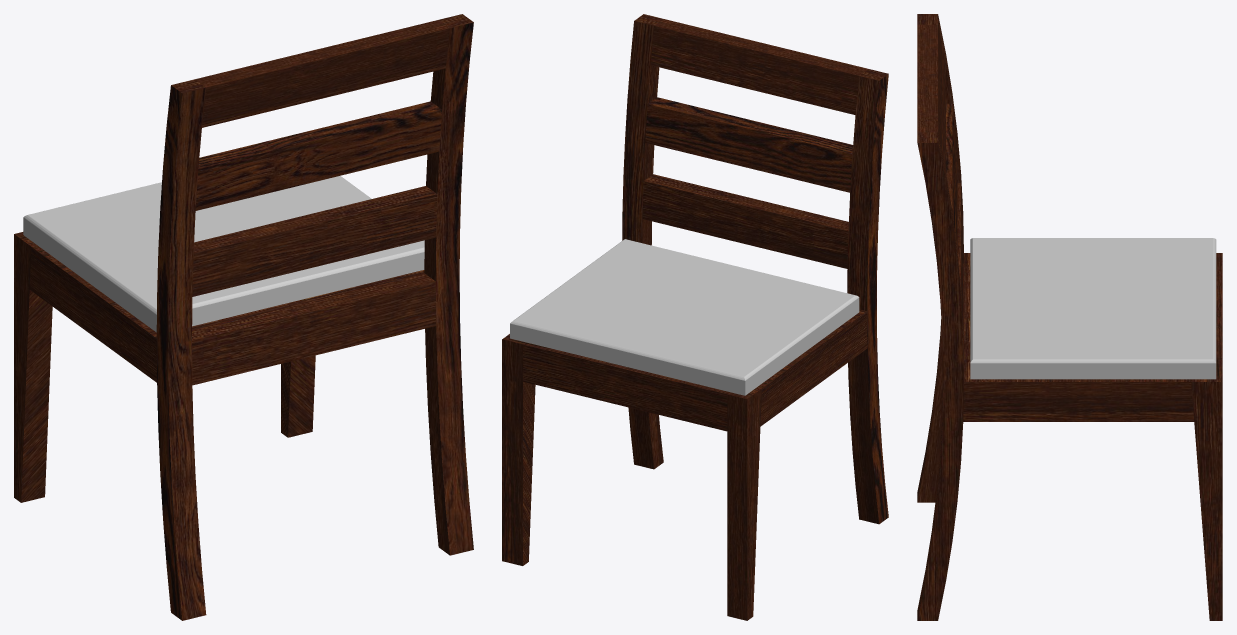
The model's file is chair.fbx.
The picture shows the model from 3 angles, left to right: view 1: azimuth 30°, elevation 25°; view 2: azimuth 150°, elevation 25°; view 3: azimuth 270°, elevation 25°; orthographic projection. The views are drawn at different scales.
Visible parts, largest first — view 1: ZidleA1; view 2: ZidleA1; view 3: ZidleA1.
Part boxes in pixels (<box>): ZidleA1: <box>14,14,473,620</box>; ZidleA1: <box>502,14,888,620</box>; ZidleA1: <box>917,14,1222,620</box>.
Bounding box in the file's own units: 97.78 × 169 × 97.78.
